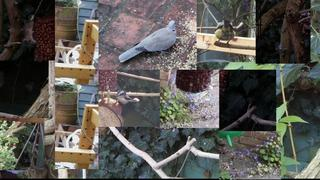blue tit: (214, 20, 236, 48)
collared dove: (118, 20, 177, 63)
long tailed tit: (114, 90, 140, 108)
mouse: (22, 20, 35, 44)
